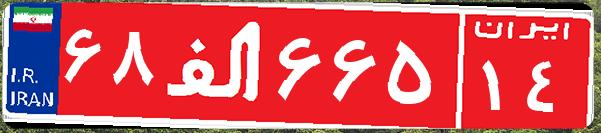1: (475, 38, 525, 113)
4: (525, 38, 570, 115)
5: (385, 28, 445, 110)
6: (273, 28, 330, 110), (330, 28, 385, 110), (57, 26, 110, 107)
8: (110, 28, 158, 105)
الف: (158, 15, 273, 115)
